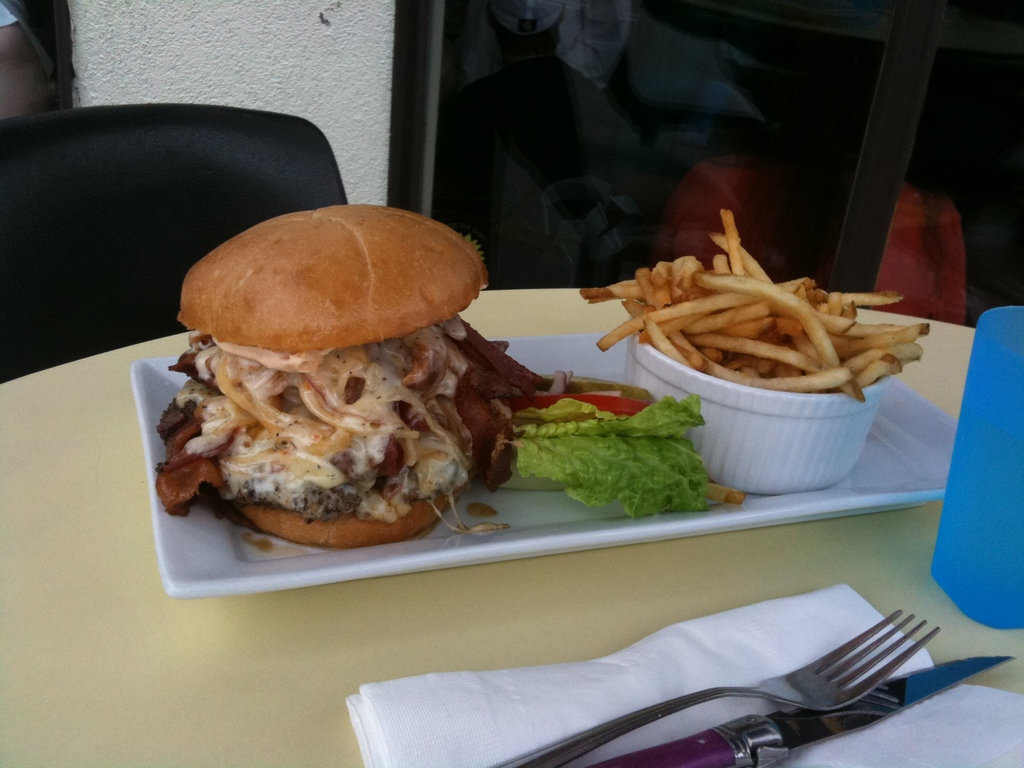French fries: (576, 209, 929, 398), (708, 478, 745, 501)
